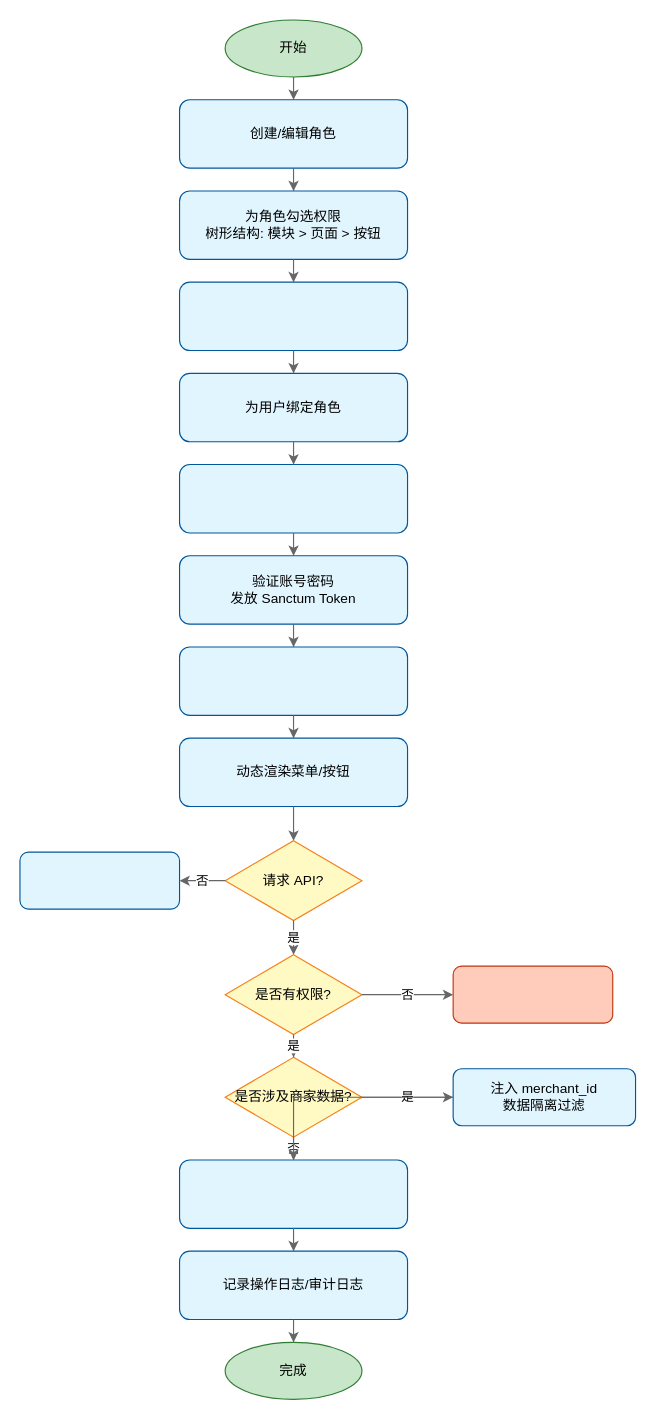
Some shapes in this 656 by 1419 pixel diagram are drawn without their labels. Here are the shapes that lost their labels. From the top down, the centre of each, then its label:
(293,316): 创建/编辑用户 填写基本信息
(293,498): 用户登录
(293,680): 查询用户角色及权限
(99,880): 前端展示
(532,994): 返回 403 无权访问
(293,1193): 执行业务逻辑
